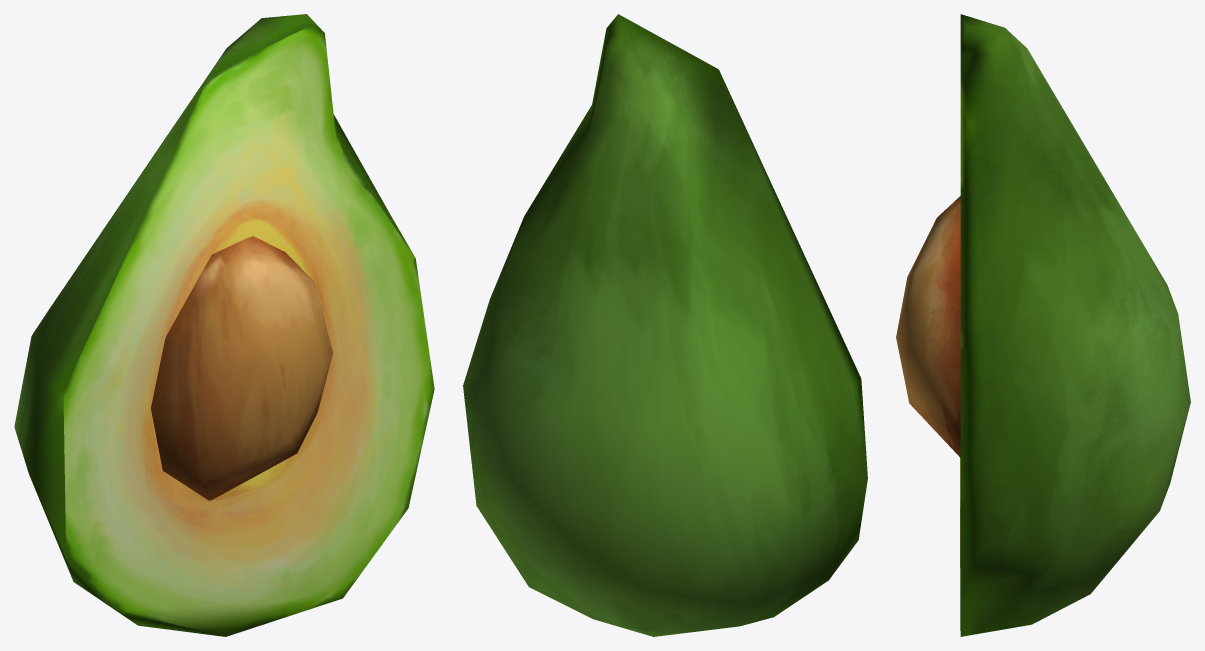
The model's file is pine_lod2.glb.
The picture shows the model from 3 angles, left to right: view 1: azimuth 30°, elevation 25°; view 2: azimuth 150°, elevation 25°; view 3: azimuth 270°, elevation 25°; orthographic projection. The views are drawn at different scales.
Visible parts, largest first — view 1: Avocado; view 2: Avocado; view 3: Avocado.
Boxes of the visible parts, box(x1,y1,x2,y2) form: Avocado: box(14, 14, 434, 636); Avocado: box(463, 14, 867, 636); Avocado: box(896, 14, 1190, 636).
Bounding box in the file's own units: 0.0425 × 0.0626 × 0.0276.
Materials: 1 (1 with a texture image).
